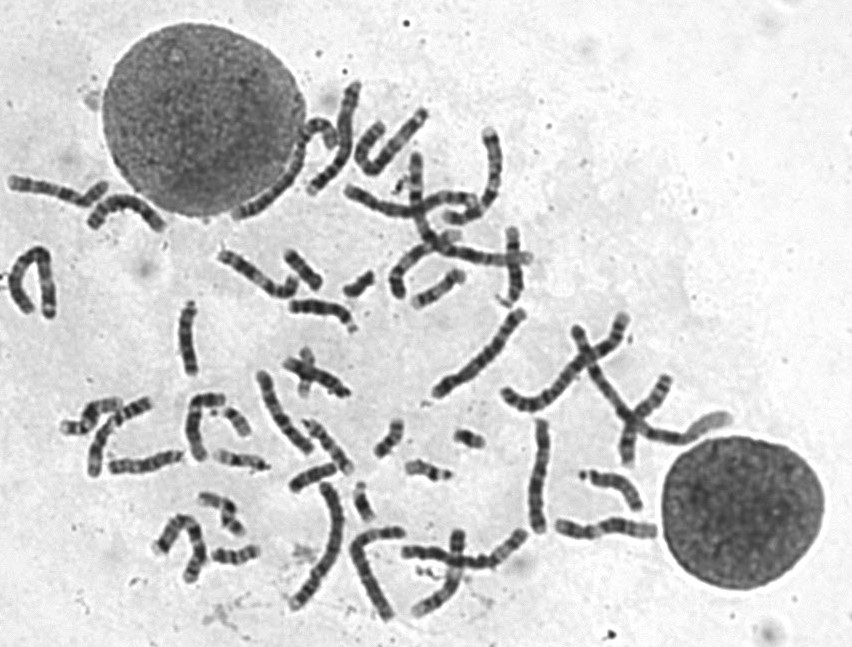chromosomes: (568, 320, 737, 450), (402, 146, 545, 271), (499, 309, 637, 417), (229, 113, 343, 223), (425, 300, 534, 403), (282, 475, 353, 620), (301, 73, 365, 201), (440, 120, 508, 230), (81, 390, 160, 484), (395, 525, 537, 574), (350, 103, 437, 182), (409, 521, 472, 630), (251, 365, 318, 461), (347, 522, 407, 629), (615, 372, 678, 473), (343, 179, 482, 224), (387, 228, 467, 305), (2, 234, 68, 326), (209, 248, 303, 305), (148, 510, 214, 587), (2, 169, 112, 214), (84, 189, 177, 242), (524, 411, 558, 540), (278, 353, 360, 405), (180, 386, 231, 469), (50, 391, 130, 443), (575, 462, 644, 516), (301, 413, 356, 478), (285, 295, 368, 338), (552, 515, 666, 546), (405, 262, 470, 315), (193, 489, 254, 542), (104, 444, 187, 480), (278, 239, 328, 298), (495, 221, 527, 312), (175, 288, 203, 381), (283, 457, 340, 498), (370, 410, 410, 467), (211, 443, 278, 477), (401, 455, 464, 487), (209, 536, 268, 570), (293, 338, 323, 402), (336, 261, 379, 305), (349, 471, 382, 525), (221, 402, 258, 444), (447, 421, 488, 455)
